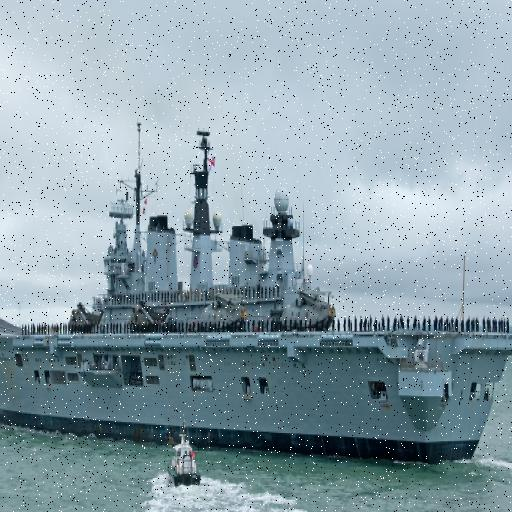Portanaves: (1, 110, 512, 450)
